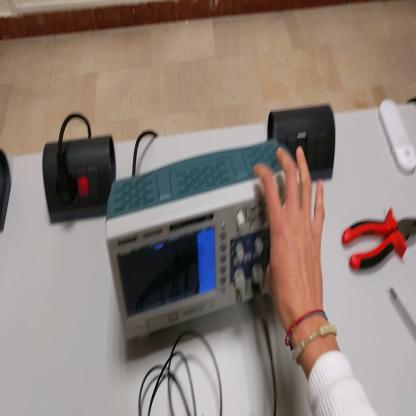hand: (256, 142, 328, 332)
pliers: (343, 207, 416, 277)
screwdriver-: (391, 287, 416, 337)
socket: (42, 130, 117, 224), (1, 147, 14, 238)
